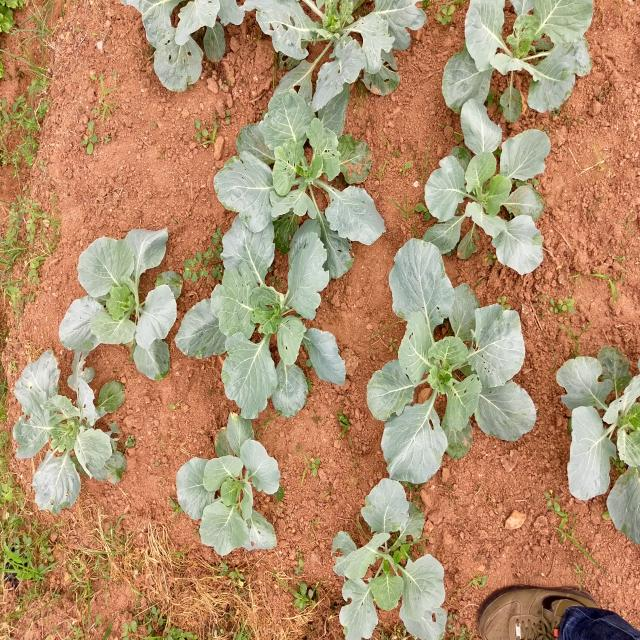Cabbage: (370, 230, 544, 500), (205, 64, 394, 308), (187, 205, 366, 422), (423, 115, 555, 284), (327, 466, 449, 640), (57, 216, 185, 381), (11, 340, 129, 514), (452, 1, 598, 130), (248, 0, 430, 95), (171, 420, 285, 552), (561, 334, 640, 523), (133, 0, 253, 92)
